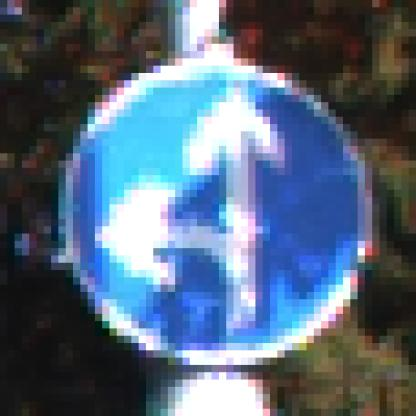Straight or Left: (45, 45, 373, 380)
